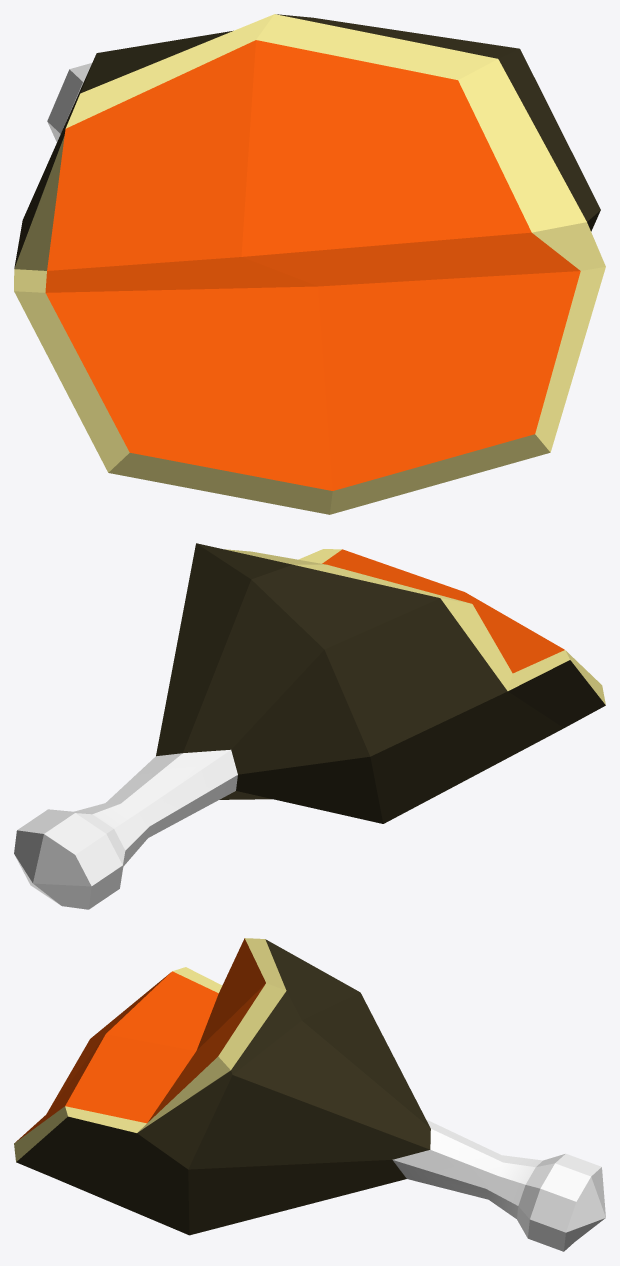
The model's file is food_pork_halfeaten.fbx.
3 views of the same model, one above another, from view 1: azimuth 30°, elevation 25°; view 2: azimuth 150°, elevation 25°; view 3: azimuth 270°, elevation 25° (orthographic). The views are drawn at different scales.
Visible parts, largest first — view 1: pCube6; view 2: pCube6; view 3: pCube6.
Part boxes in pixels (x1,y1,x2,y2): pCube6: (14,14,605,514); pCube6: (14,543,605,909); pCube6: (14,938,605,1251).
Size of the model in its own units: 89.9 by 56.87 by 136.
Materials: 1 (1 with a texture image).
